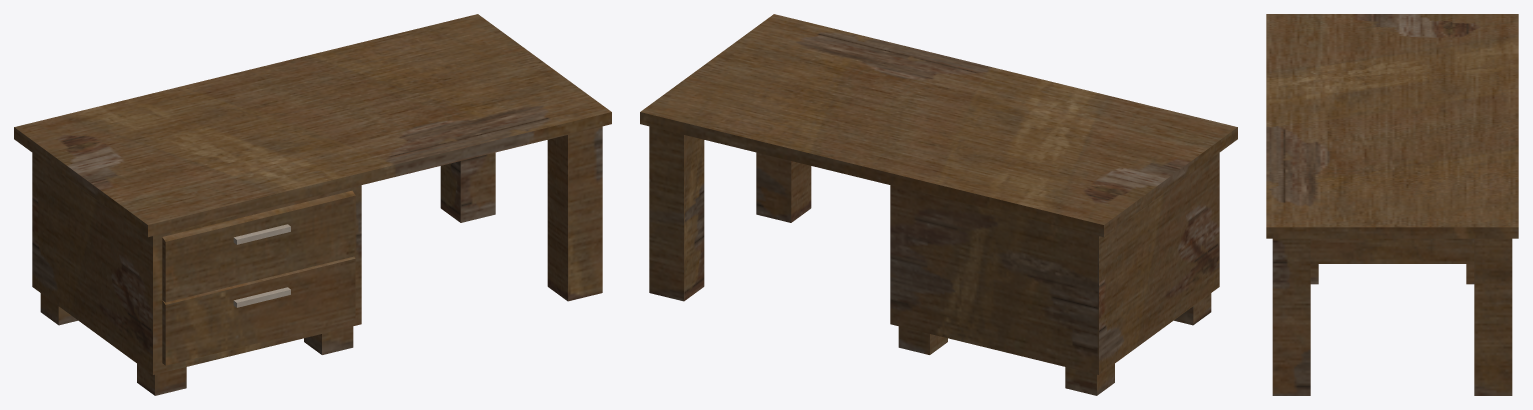
The model's file is WoodenDesktop.fbx.
The picture shows the model from 3 angles, left to right: view 1: azimuth 30°, elevation 25°; view 2: azimuth 150°, elevation 25°; view 3: azimuth 270°, elevation 25°; orthographic projection. The views are drawn at different scales.
Visible parts, largest first — view 1: WoodenDesktop; view 2: WoodenDesktop; view 3: WoodenDesktop.
Boxes of the visible parts, bbox=[...] form: WoodenDesktop: bbox=[14, 14, 611, 395]; WoodenDesktop: bbox=[640, 14, 1237, 395]; WoodenDesktop: bbox=[1266, 14, 1518, 395].
Size of the model in its own units: 200 by 75 by 100.
Materials: 1 (1 with a texture image).
